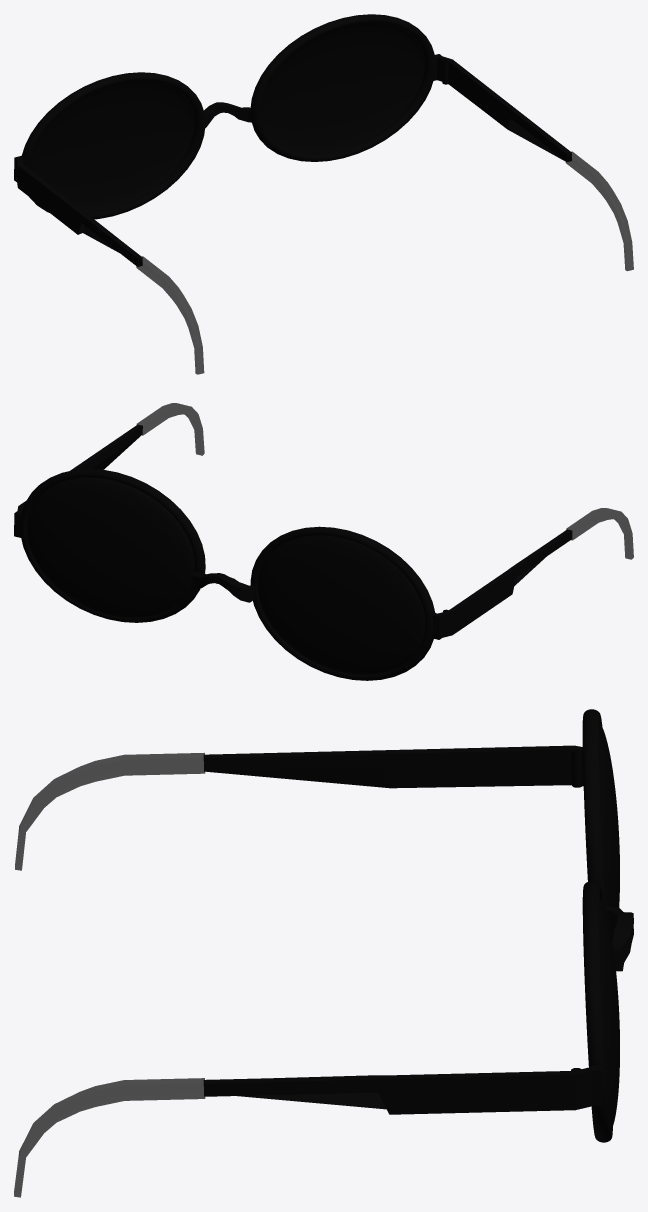
Rendered from glasses4.fbx.
3 views of the same model, one above another, from view 1: azimuth 30°, elevation 25°; view 2: azimuth 150°, elevation 25°; view 3: azimuth 270°, elevation 25° (orthographic). The views are drawn at different scales.
Parts seen in each view (by area): view 1: node_id6, node_id14, node_id12, node_id10, node_id8; view 2: node_id6, node_id14, node_id12, node_id10, node_id8; view 3: node_id12, node_id10, node_id14, node_id6, node_id8.
Part boxes in pixels (x1=…): node_id6: x1=31, y1=22, x2=424, y2=211; node_id14: x1=21, y1=14, x2=435, y2=219; node_id12: x1=14, y1=54, x2=571, y2=266; node_id10: x1=136, y1=151, x2=633, y2=374; node_id8: x1=204, y1=102, x2=252, y2=128; node_id6: x1=27, y1=477, x2=425, y2=674; node_id14: x1=20, y1=469, x2=435, y2=680; node_id12: x1=14, y1=424, x2=572, y2=639; node_id10: x1=136, y1=403, x2=633, y2=559; node_id8: x1=190, y1=572, x2=255, y2=602; node_id12: x1=203, y1=745, x2=602, y2=1114; node_id10: x1=14, y1=752, x2=205, y2=1197; node_id14: x1=582, y1=709, x2=612, y2=1142; node_id6: x1=599, y1=723, x2=619, y2=1130; node_id8: x1=605, y1=906, x2=633, y2=971.
Bounding box in the file's own units: 0.512 × 0.1625 × 0.4063.
5 materials, 5 textured.
